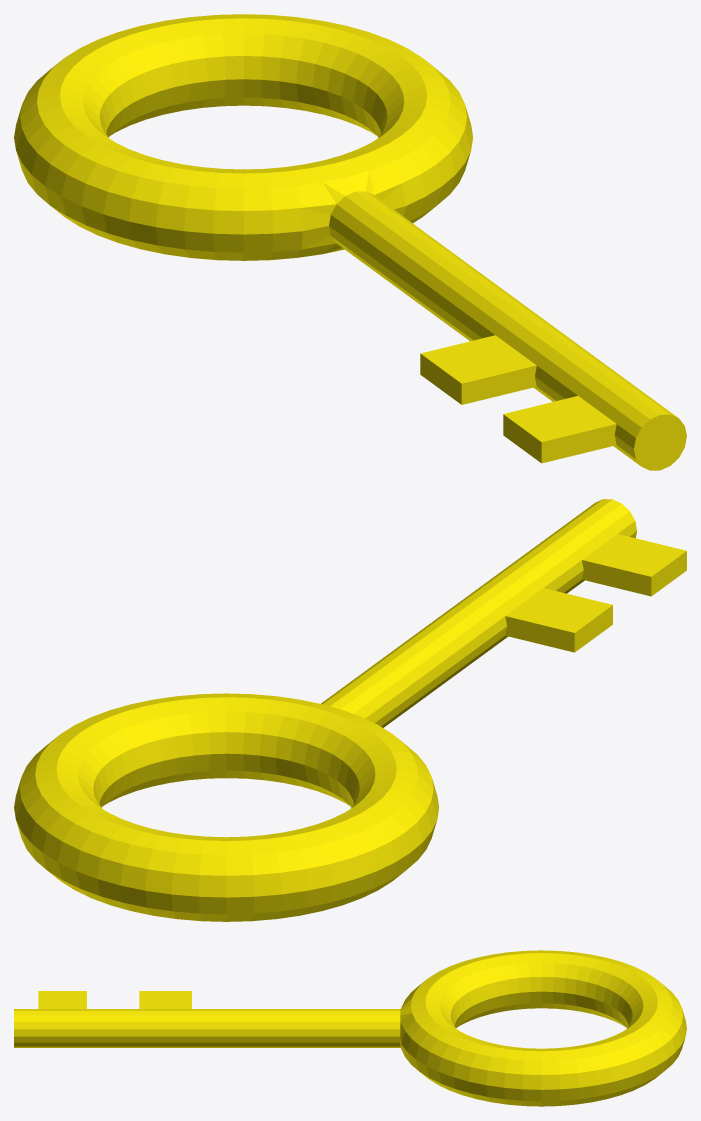
The model's file is Key.fbx.
3 views of the same model, one above another, from view 1: azimuth 30°, elevation 25°; view 2: azimuth 150°, elevation 25°; view 3: azimuth 270°, elevation 25° (orthographic). The views are drawn at different scales.
Visible parts, largest first — view 1: Torus; view 2: Torus; view 3: Torus.
Boxes of the visible parts, left/top/right/bottom form: Torus: left=14, top=14, right=686, bottom=470; Torus: left=14, top=499, right=686, bottom=921; Torus: left=14, top=950, right=686, bottom=1106.
Size of the model in its own units: 250 by 50 by 579.
